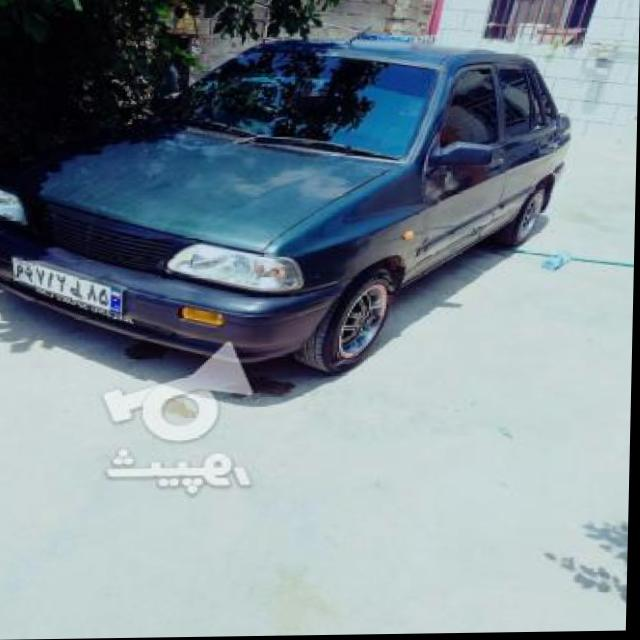licence: (12, 252, 126, 317)
